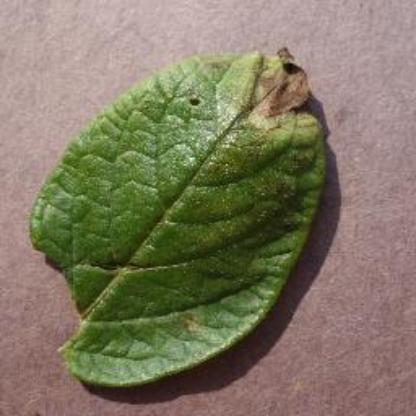Late-Blight: (26, 42, 336, 392)
